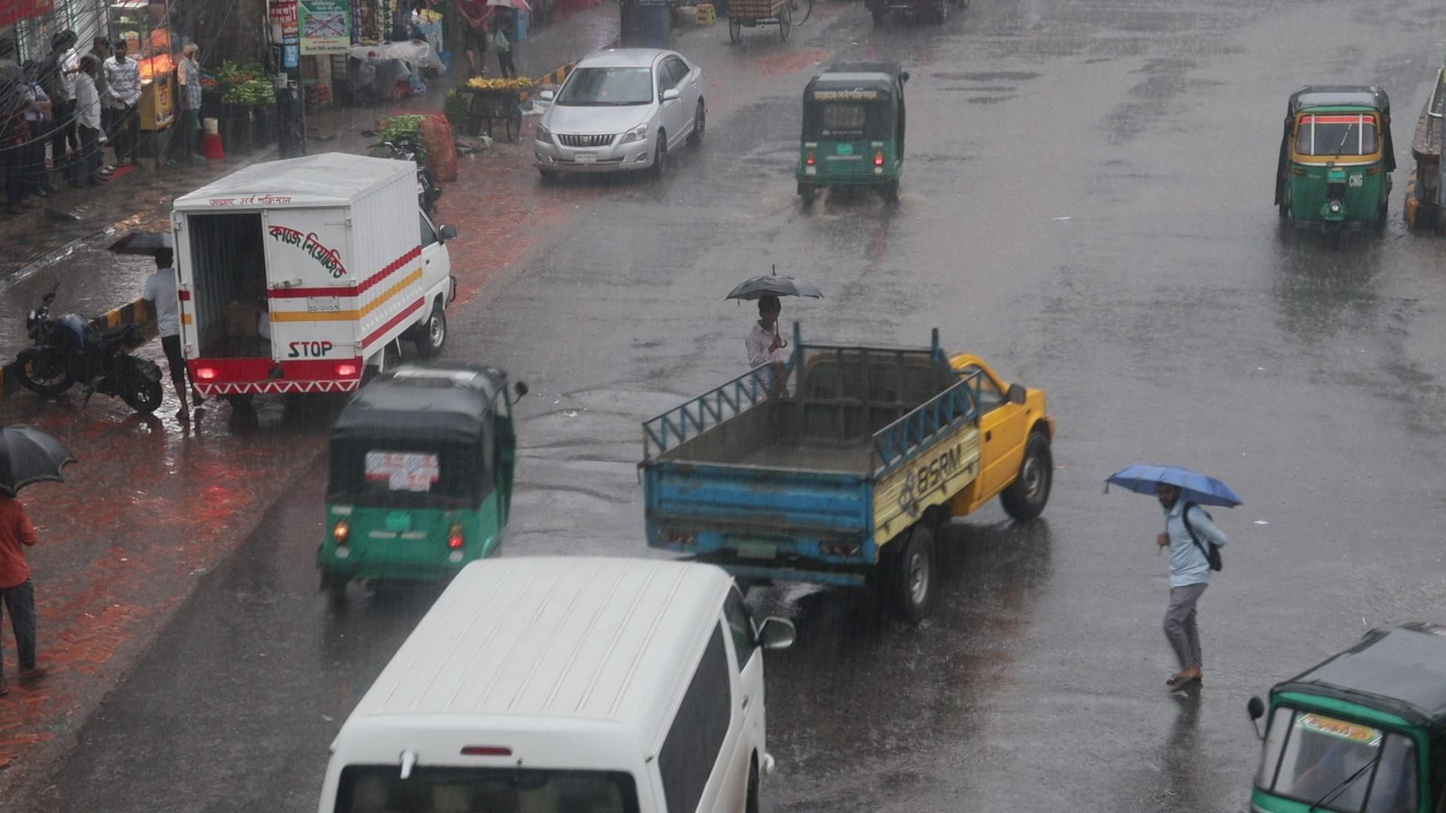Car: (311, 553, 774, 813), (531, 44, 709, 182)
Truck: (636, 318, 1058, 562)
